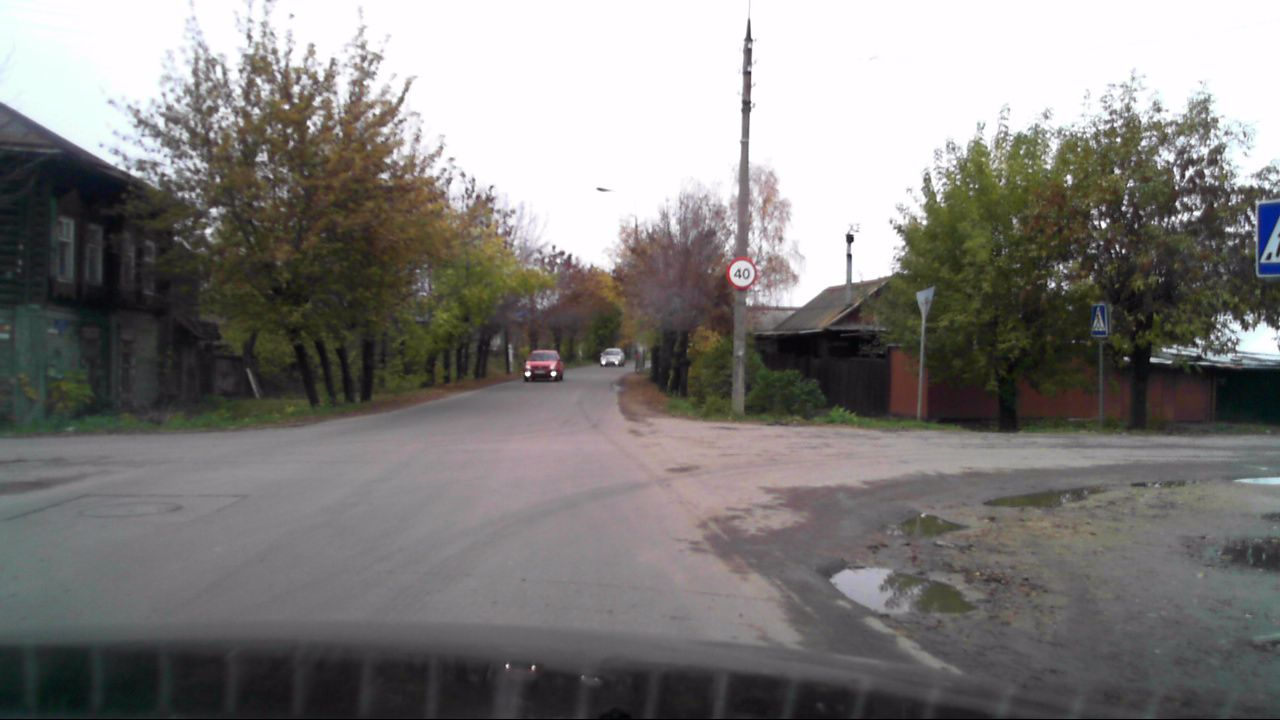speed_warning_40: (726, 256, 759, 292)
